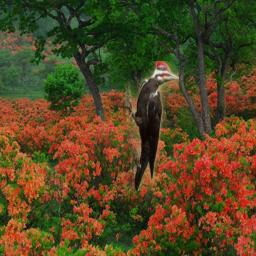Woodpecker: (123, 61, 179, 191)
